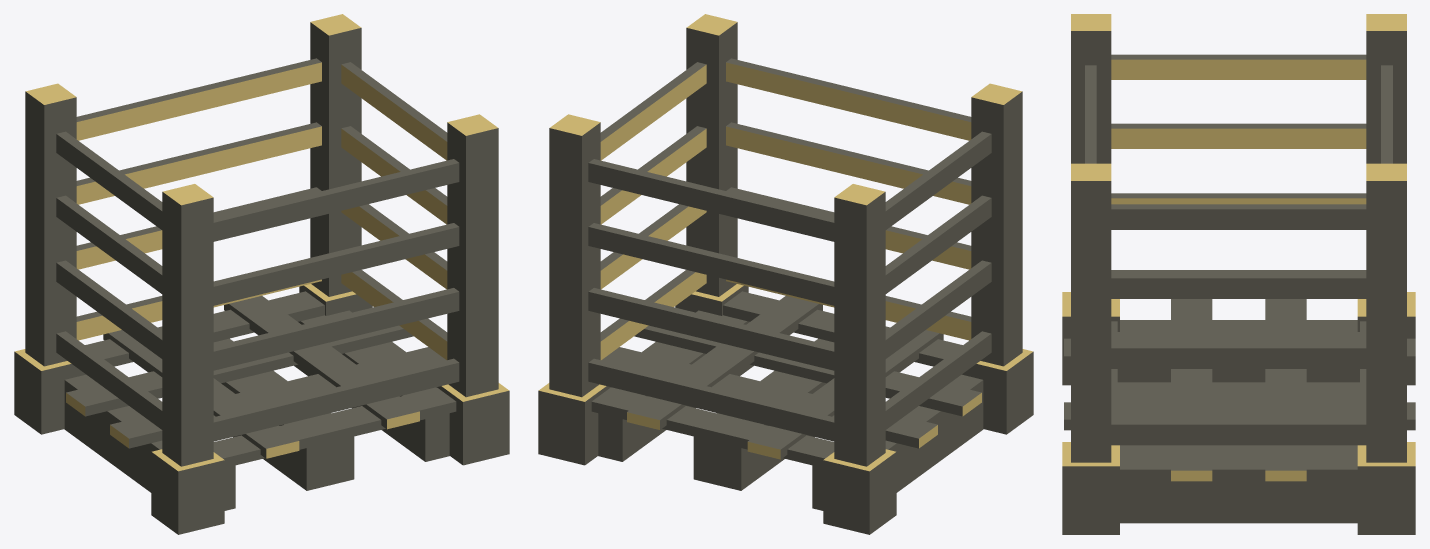
File: Storage Iron (v.1).fbx
The picture shows the model from 3 angles, left to right: view 1: azimuth 30°, elevation 25°; view 2: azimuth 150°, elevation 25°; view 3: azimuth 270°, elevation 25°; orthographic projection. The views are drawn at different scales.
Parts seen in each view (by area): view 1: storage_iron; view 2: storage_iron; view 3: storage_iron.
Part boxes in pixels (left/top/right/bottom): storage_iron: left=14, top=14, right=509, bottom=534; storage_iron: left=538, top=14, right=1033, bottom=534; storage_iron: left=1062, top=14, right=1415, bottom=534.
Bounding box in the file's own units: 131 × 123 × 112.
